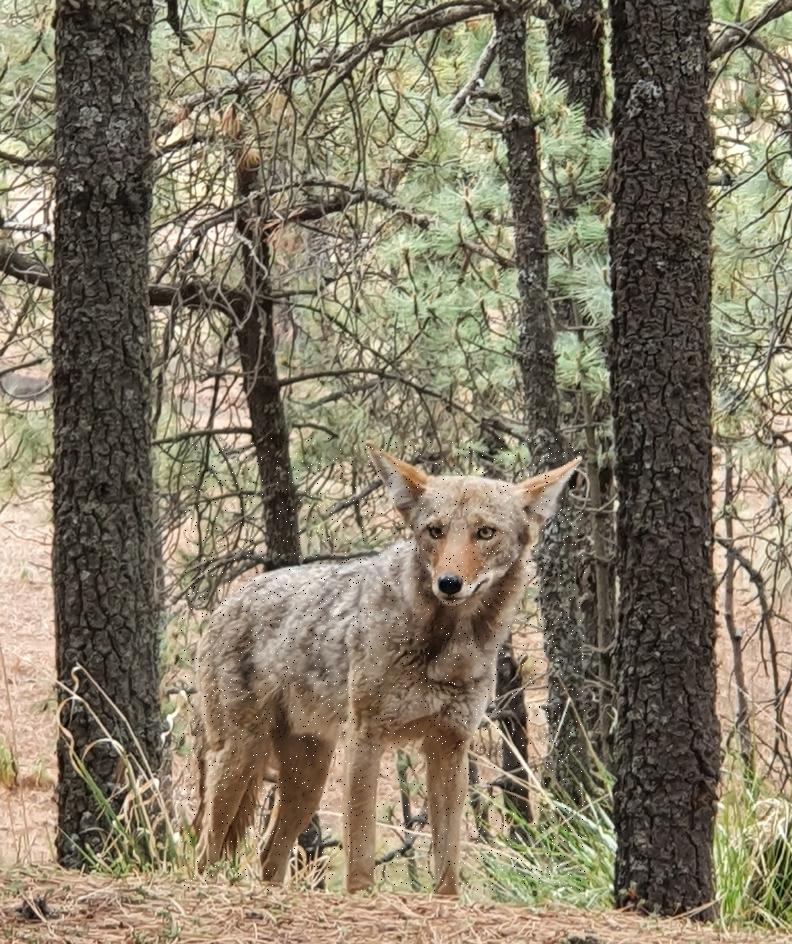Coyote: (181, 438, 587, 891)
